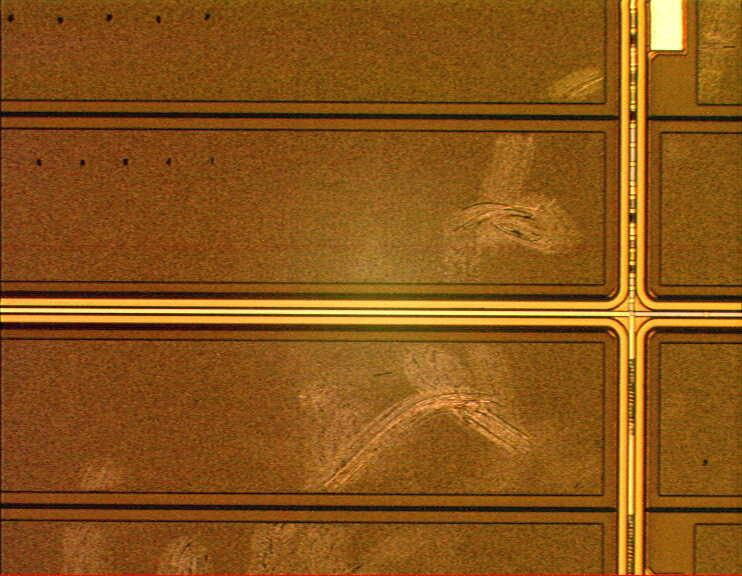SCRATCH: (51, 1, 742, 576)
